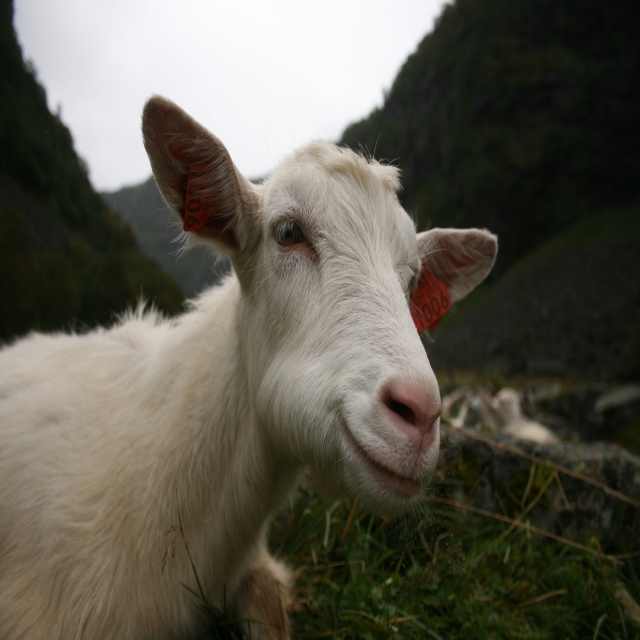Goat: (0, 91, 499, 640)
